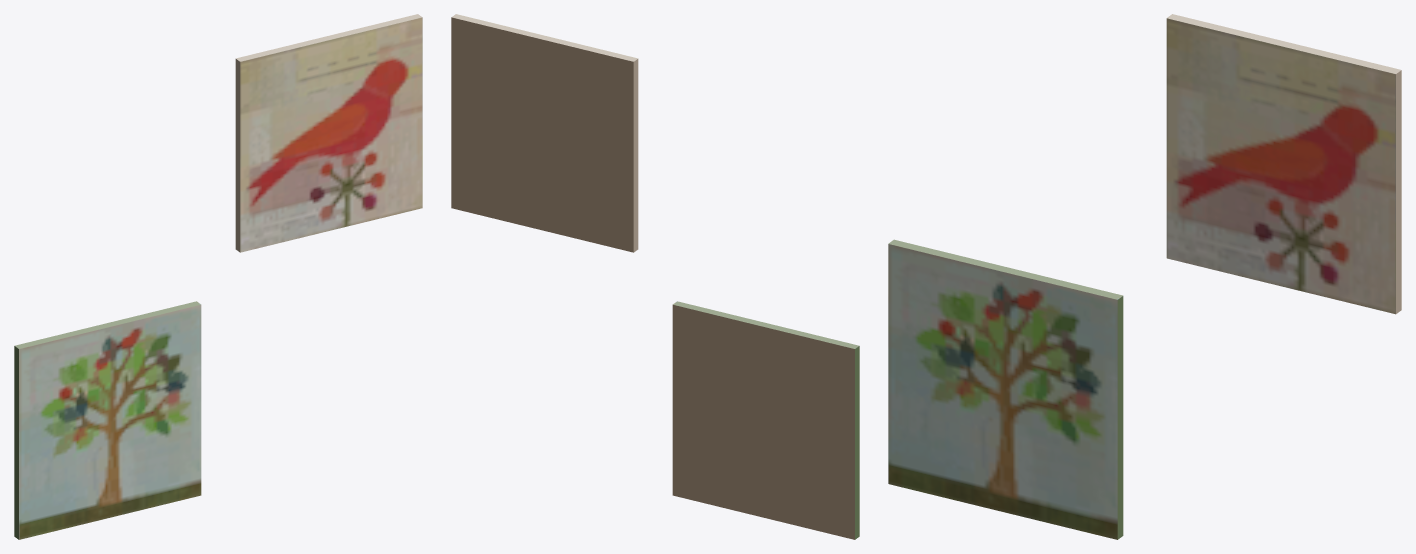
Rendered from furni_0200132.FBX.
3 views of the same model, side by side, from view 1: azimuth 30°, elevation 25°; view 2: azimuth 150°, elevation 25°; view 3: azimuth 330°, elevation 25° (orthographic). The views are drawn at different scales.
Visible parts, largest first — view 1: furni_0200132; view 2: furni_0200132; view 3: furni_0200132.
Boxes of the visible parts, <box> form: furni_0200132: <box>14,14,422,539</box>; furni_0200132: <box>451,14,859,539</box>; furni_0200132: <box>888,14,1401,539</box>.
Bounding box in the file's own units: 79.48 × 79.82 × 1.57.
Materials: 1 (1 with a texture image).
